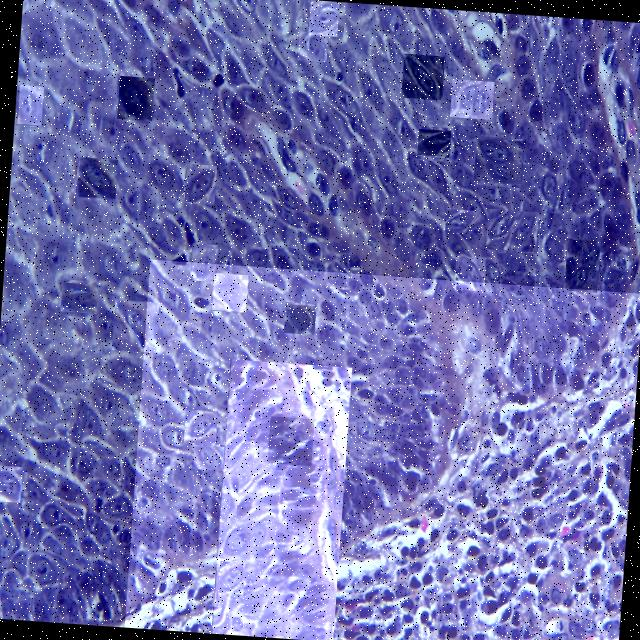Multiple Nucleol: (114, 299, 155, 351), (475, 137, 521, 182), (268, 415, 311, 463), (485, 210, 537, 249), (403, 52, 441, 98), (564, 239, 598, 290), (449, 79, 491, 117), (78, 156, 115, 196), (117, 75, 151, 118), (212, 273, 246, 310), (183, 410, 216, 443), (307, 0, 338, 34), (185, 165, 215, 200), (61, 281, 95, 310), (454, 255, 482, 290), (499, 273, 531, 303), (16, 84, 41, 122), (190, 243, 214, 279), (284, 303, 313, 332), (444, 208, 480, 231), (297, 31, 325, 60), (193, 443, 224, 469), (416, 130, 449, 154), (0, 464, 21, 501)
Nuclear Hyperchromatism: (123, 293, 640, 640), (226, 360, 334, 640)
